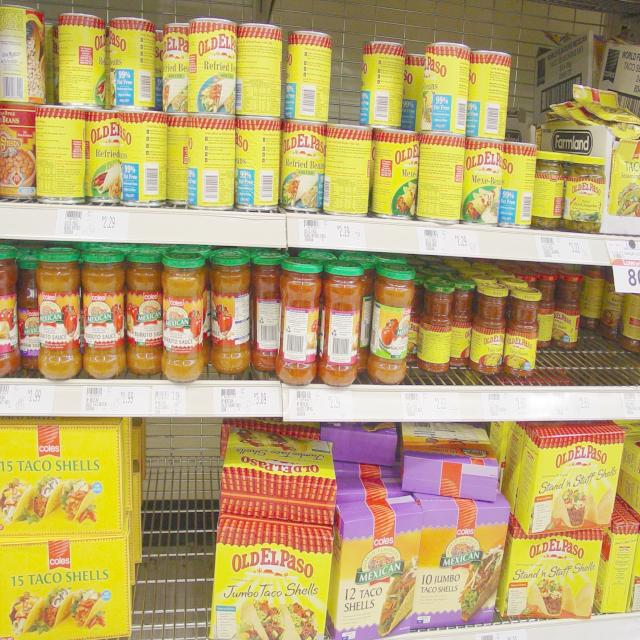empty_space: (145, 430, 207, 630), (552, 283, 616, 377)
